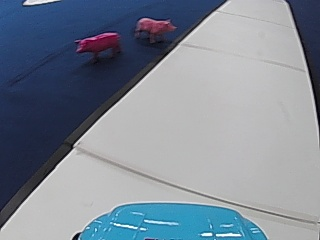pig: (73, 28, 121, 65), (132, 13, 176, 45)
